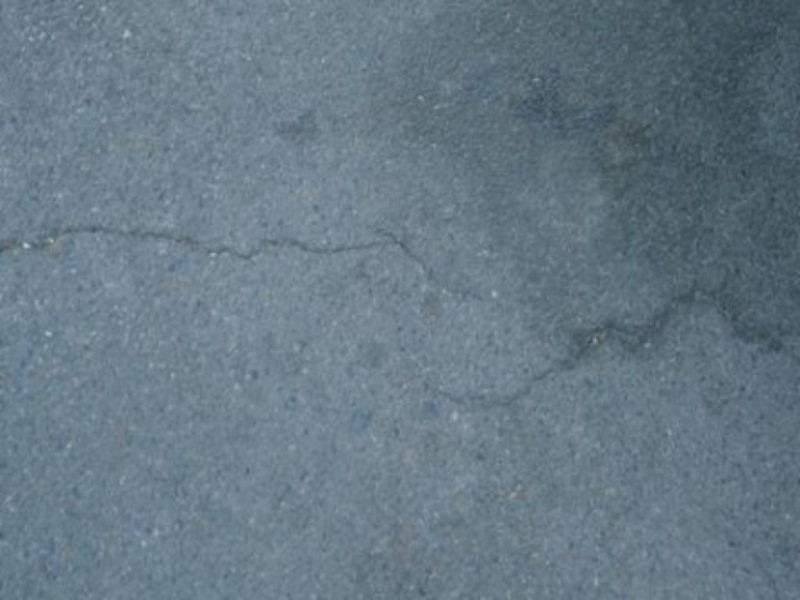crack: (15, 206, 502, 317), (420, 277, 790, 421)
